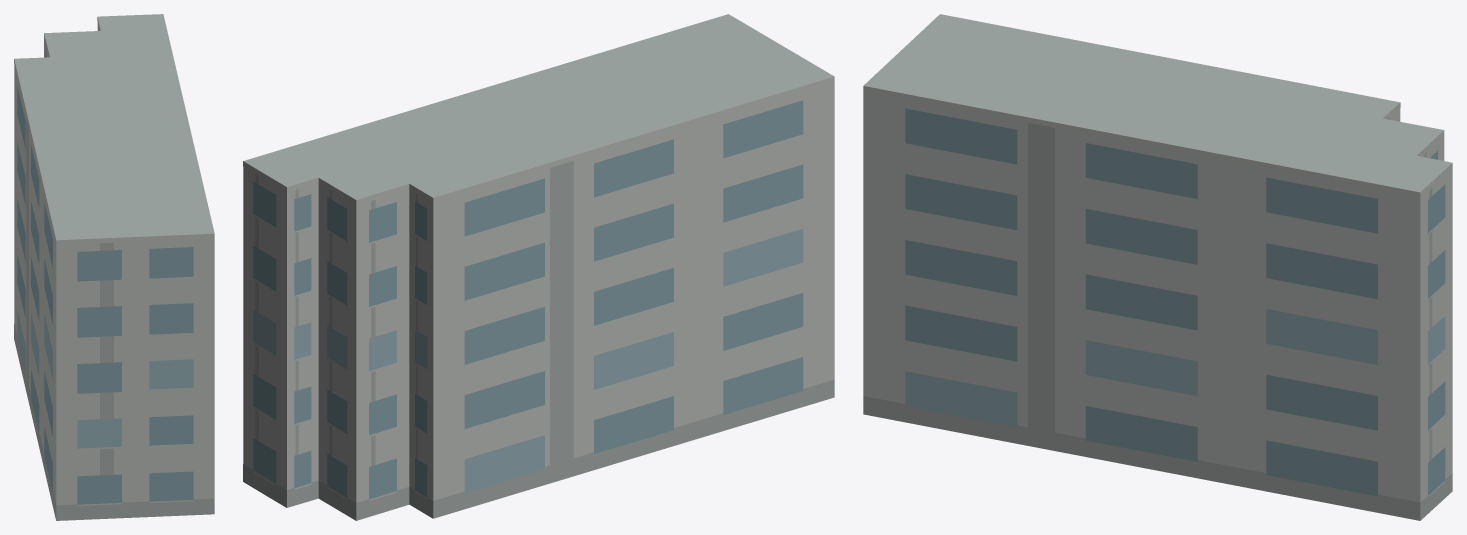
The model's file is survey-upis-32764213.glb.
The picture shows the model from 3 angles, left to right: view 1: azimuth 30°, elevation 25°; view 2: azimuth 150°, elevation 25°; view 3: azimuth 270°, elevation 25°; orthographic projection. The views are drawn at different scales.
Parts seen in each view (by area): view 1: survey-upis-32764213.tmp; view 2: survey-upis-32764213.tmp; view 3: survey-upis-32764213.tmp.
Part boxes in pixels (bbox=[...]): survey-upis-32764213.tmp: bbox=[14, 14, 214, 520]; survey-upis-32764213.tmp: bbox=[243, 14, 834, 520]; survey-upis-32764213.tmp: bbox=[863, 14, 1452, 520].
Bounding box in the file's own units: 17.01 × 14.6 × 23.75.
